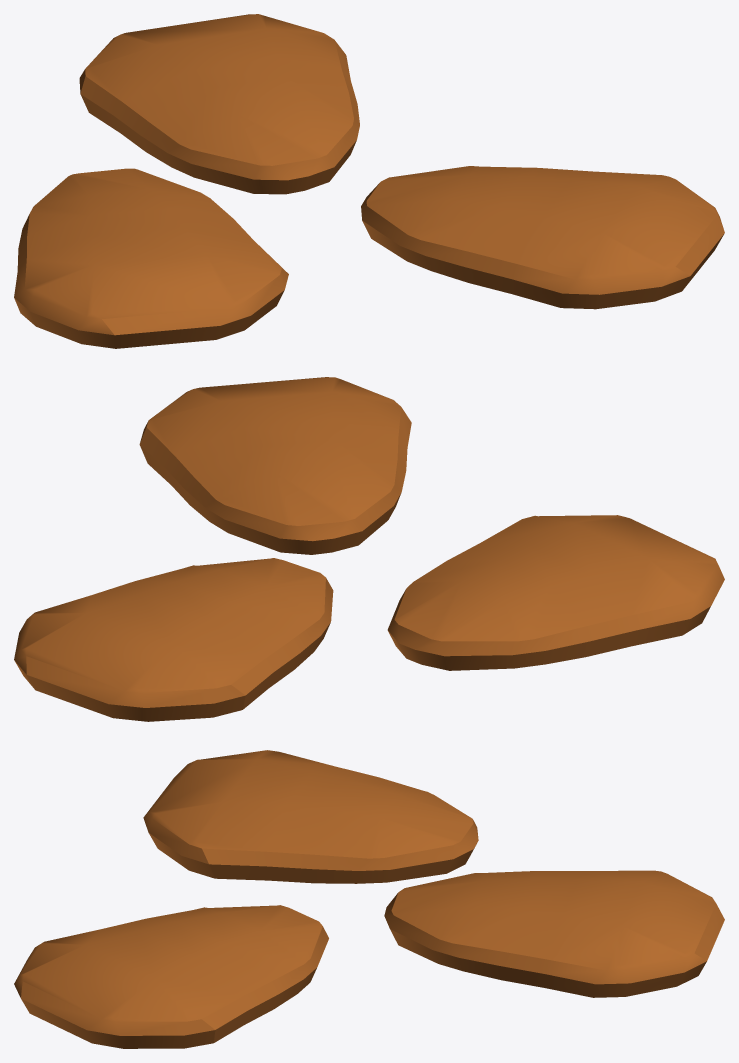
File: Brown1_seed.fbx
3 renders of one model, top to bottom at view 1: azimuth 30°, elevation 25°; view 2: azimuth 150°, elevation 25°; view 3: azimuth 270°, elevation 25°, orthographic. The views are drawn at different scales.
Visible parts, largest first — view 1: seed1, seed1.001, seed1.002; view 2: seed1.002, seed1.001, seed1; view 3: seed1.001, seed1.002, seed1.
Part boxes in pixels (x1,y1,x2,y2): seed1: (361, 166, 724, 309); seed1.001: (79, 14, 359, 194); seed1.002: (14, 168, 288, 348); seed1.002: (387, 515, 724, 670); seed1.001: (14, 558, 333, 721); seed1: (139, 377, 411, 554); seed1.001: (384, 870, 724, 997); seed1.002: (143, 750, 478, 883); seed1: (14, 905, 328, 1048).
Size of the model in its own units: 111 by 12.18 by 121.
